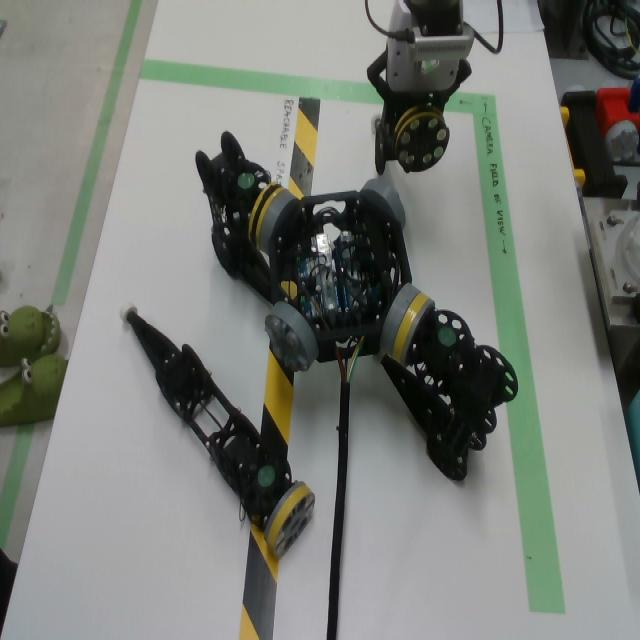body: (269, 192, 410, 363)
body_connector: (265, 301, 319, 373), (379, 284, 420, 357), (360, 177, 407, 231), (259, 191, 299, 253)
gripper: (368, 39, 472, 125)
leg: (120, 301, 315, 557), (381, 294, 519, 483), (195, 131, 283, 303), (369, 92, 449, 176)
leg_connector: (264, 481, 315, 556), (394, 105, 450, 173), (393, 293, 435, 367), (248, 183, 283, 249)
leg_marker: (258, 465, 275, 488), (438, 328, 457, 344), (237, 173, 255, 189)
